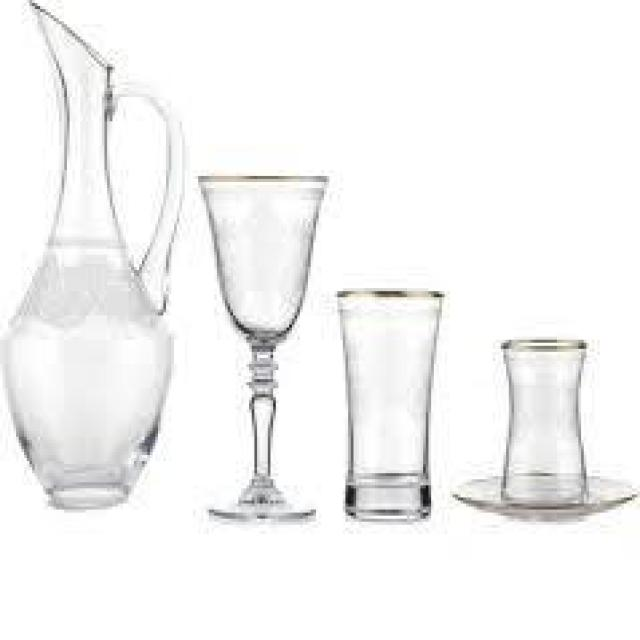Glass: (3, 9, 187, 513), (198, 173, 329, 519), (458, 337, 632, 519), (335, 288, 447, 525)
